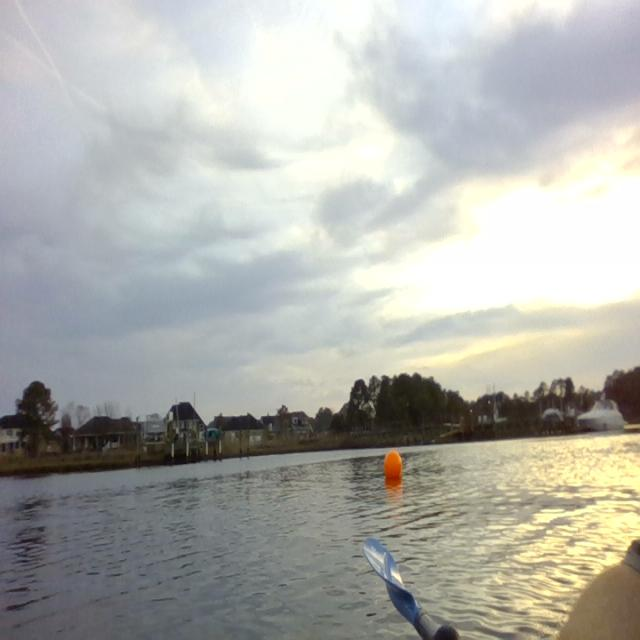Buoy: (382, 448, 404, 484)
